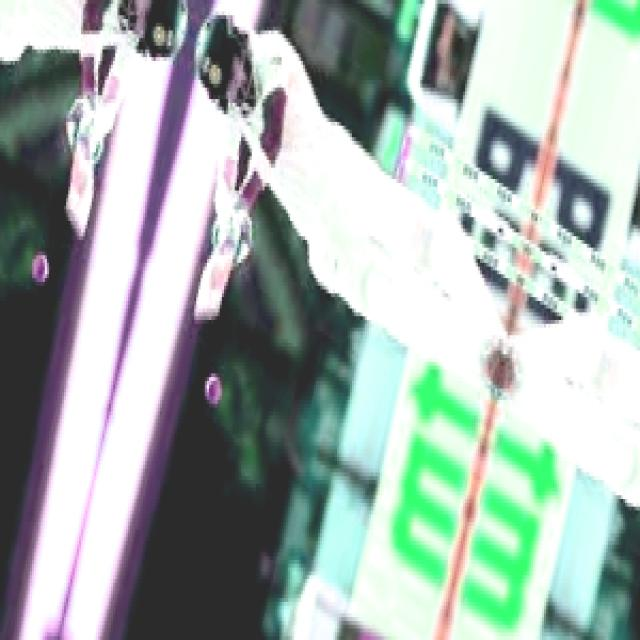toe: (191, 290, 220, 321)
